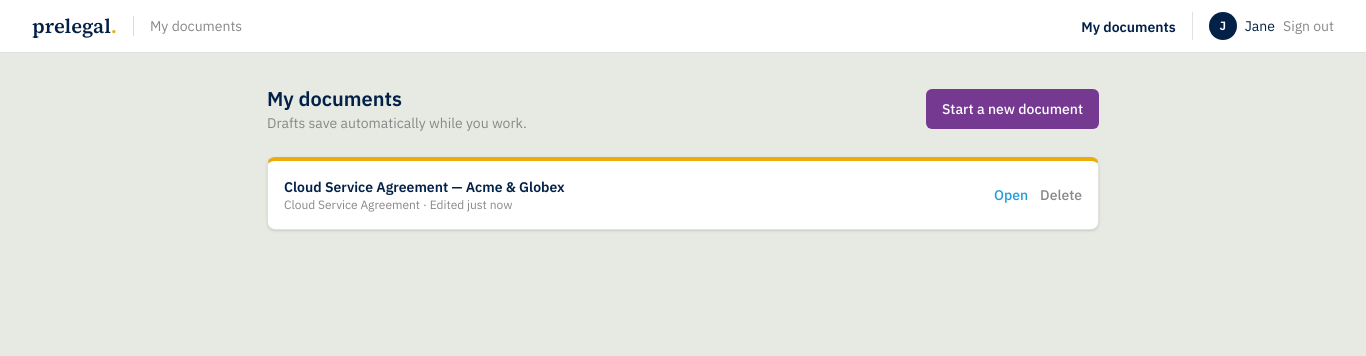
Test: DocumentsPage › deletes only after inline confirmation
The image size is (1366, 356).
Click the button "Delete".
click(1061, 195)  # box [1040,185,1082,205]
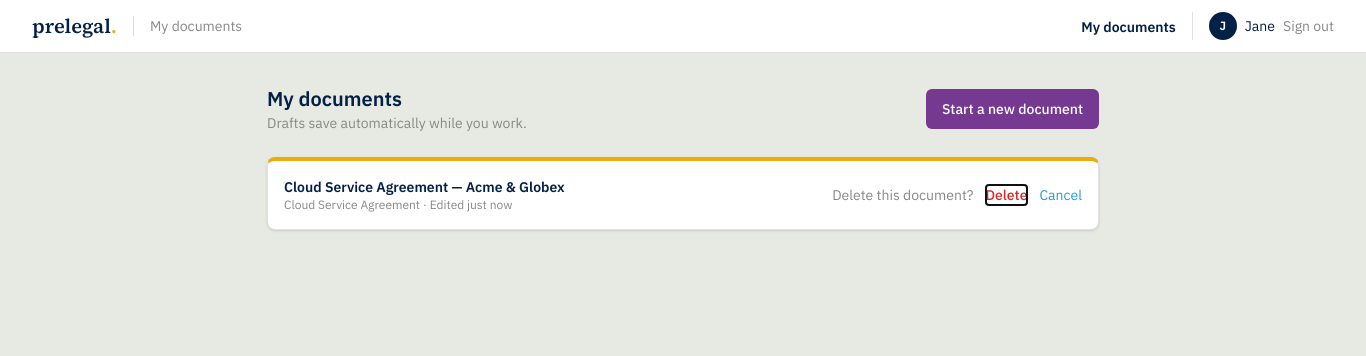
Now the text "Delete this document?" is shown, box [832,185,974,205]
Click the button "Delete".
click(1006, 195)  # box [986,185,1027,205]
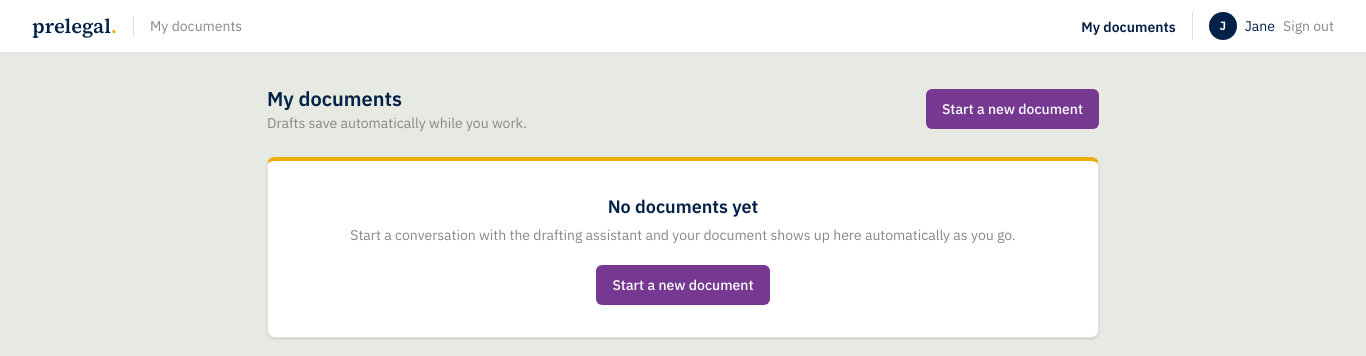
Now the text "Acme & Globex" is gone
